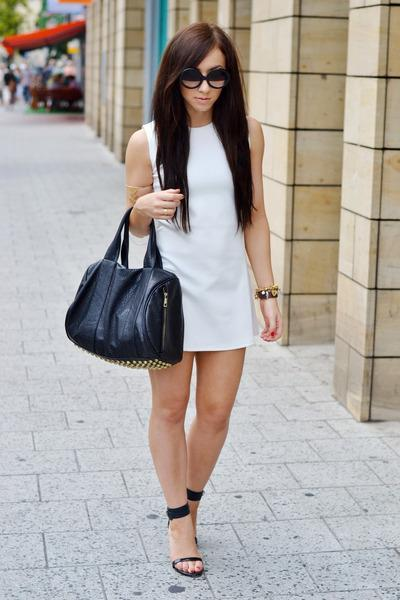bag: (65, 207, 183, 366)
dress: (154, 123, 266, 356)
shoe: (167, 492, 207, 579)
sunglass: (177, 60, 203, 98)
